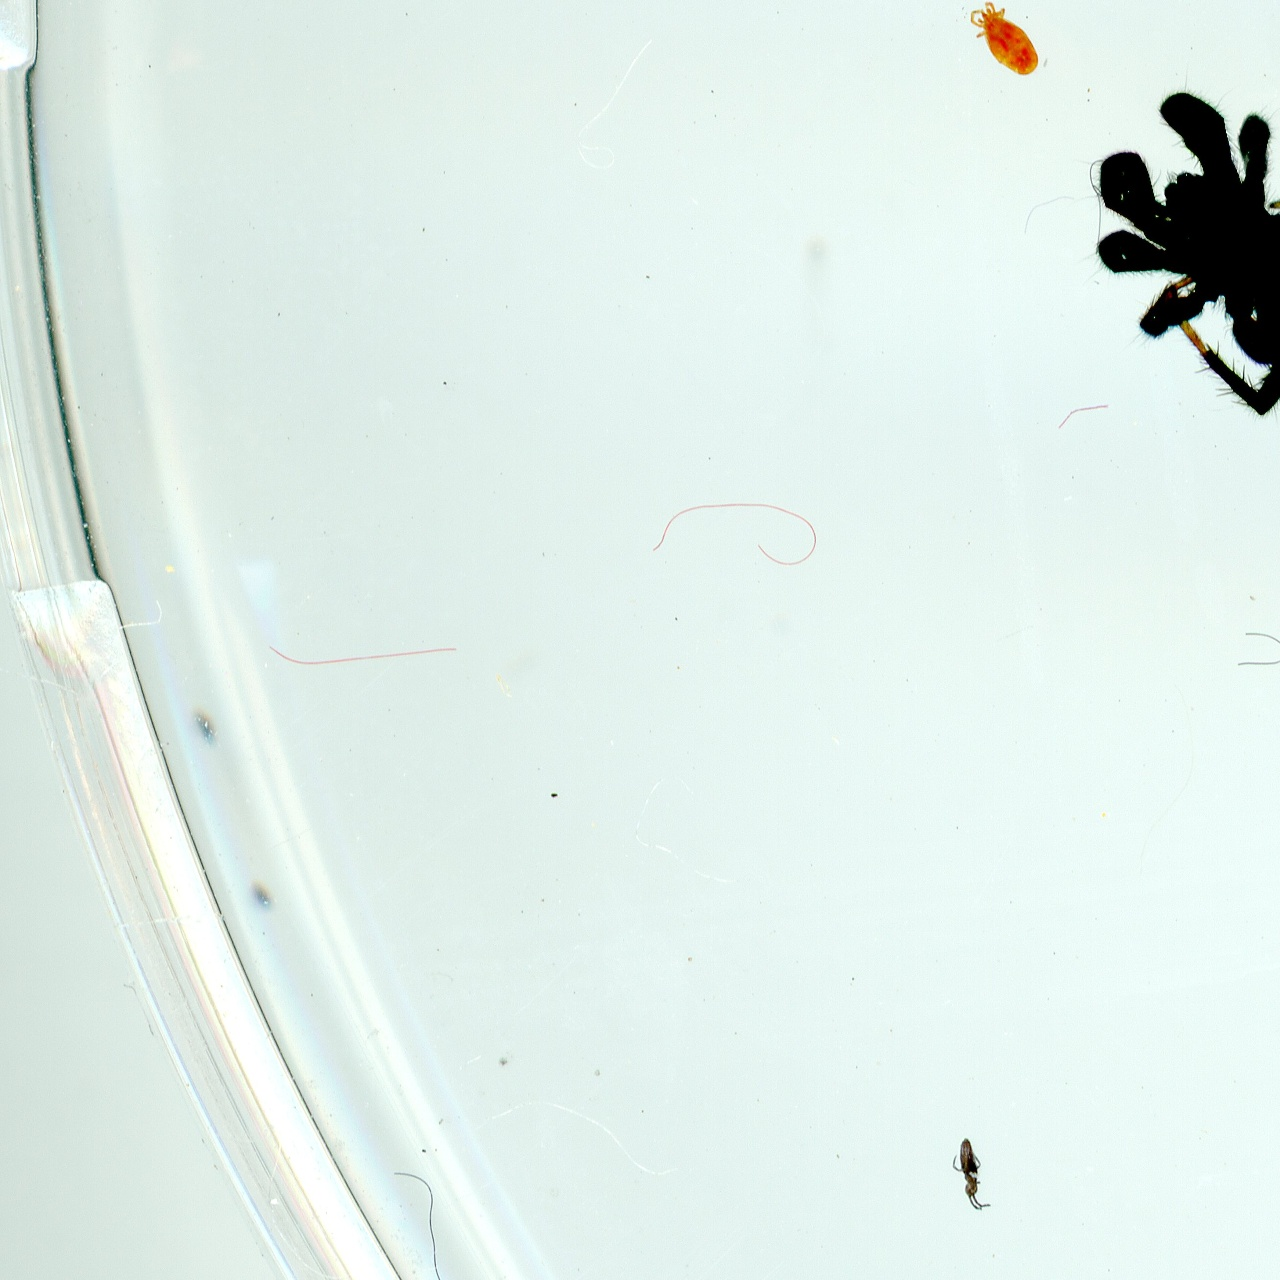arthropod: (1006, 14, 1280, 506), (947, 0, 1060, 99), (948, 1130, 993, 1216)
